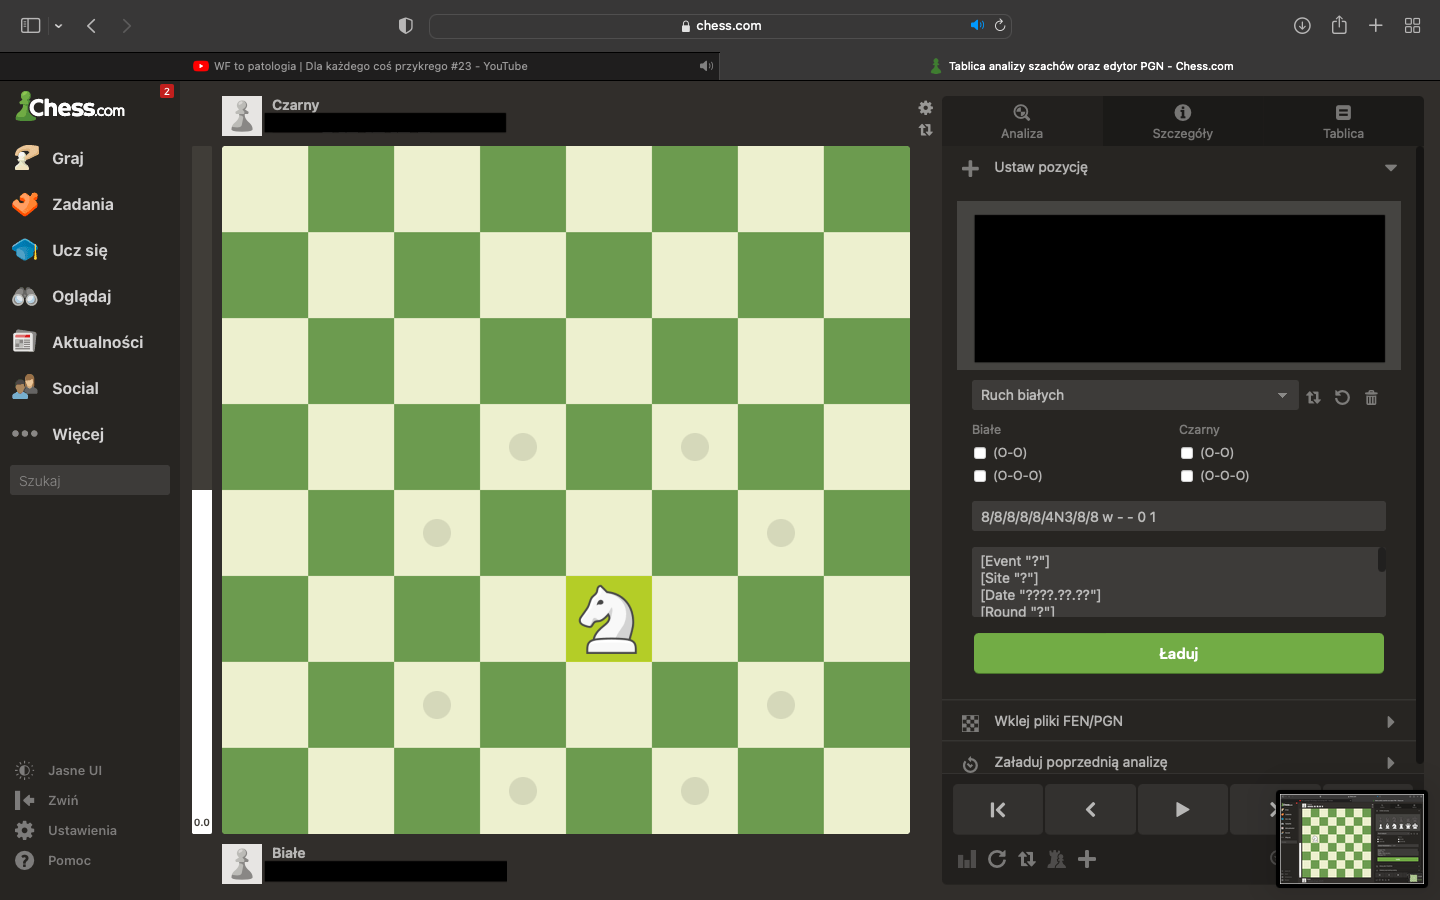white_knigth: (578, 584, 638, 655)
